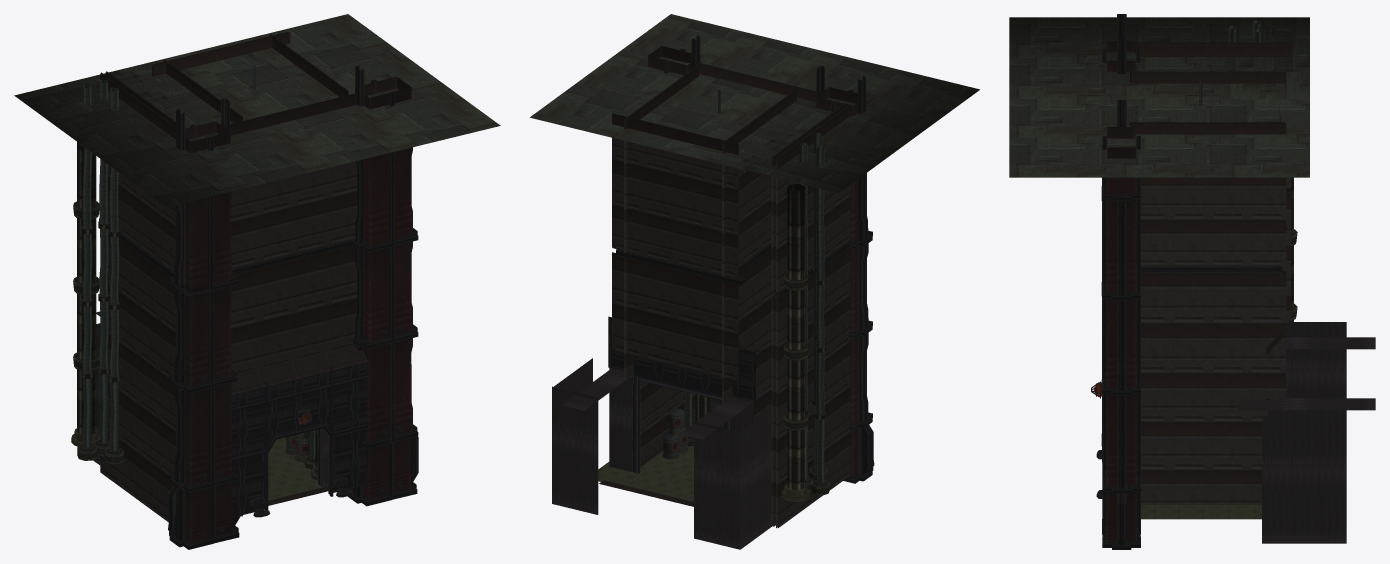
Rendered from ex-resca.glb.
3 views of the same model, side by side, from view 1: azimuth 30°, elevation 25°; view 2: azimuth 150°, elevation 25°; view 3: azimuth 270°, elevation 25° (orthographic). The views are drawn at different scales.
Visible parts, largest first — view 1: Mesh_0.051, Mesh_0.022, Mesh_0.015, Mesh_0.041, Mesh_0.020, Mesh_0.023, Mesh_1.012, Mesh_1.011, Mesh_1.015, Mesh_0.048, Mesh_0.034, Mesh_0.044 (+3 smaller); view 2: Mesh_0.051, Mesh_0.047, Mesh_0.077, Mesh_0.041, Mesh_0.042, Mesh_1.011, Mesh_0.020, Mesh_1.012, Mesh_0.022, Mesh_0.046, Mesh_0.044, Mesh_0.026 (+6 smaller); view 3: Mesh_0.042, Mesh_0.051, Mesh_0.077, Mesh_0.020, Mesh_0.022, Mesh_0.043, Mesh_0.044, Mesh_0.041, Mesh_1.011.
Part boxes in pixels (<box>): Mesh_0.051: <box>14,14,500,207</box>; Mesh_0.022: <box>175,76,411,542</box>; Mesh_0.015: <box>230,93,357,372</box>; Mesh_0.041: <box>100,72,175,521</box>; Mesh_0.020: <box>99,65,418,549</box>; Mesh_0.023: <box>232,358,366,517</box>; Mesh_1.012: <box>77,79,109,460</box>; Mesh_1.011: <box>71,142,99,446</box>; Mesh_1.015: <box>104,87,124,464</box>; Mesh_0.048: <box>232,358,368,509</box>; Mesh_0.034: <box>232,344,366,394</box>; Mesh_0.044: <box>268,437,321,500</box>; Mesh_0.051: <box>530,14,979,192</box>; Mesh_0.047: <box>612,113,743,380</box>; Mesh_0.077: <box>552,358,771,549</box>; Mesh_0.041: <box>776,105,850,528</box>; Mesh_0.042: <box>624,66,796,471</box>; Mesh_1.011: <box>781,184,810,501</box>; Mesh_0.020: <box>663,35,874,483</box>; Mesh_1.012: <box>799,142,829,495</box>; Mesh_0.022: <box>648,46,866,476</box>; Mesh_0.046: <box>608,311,755,403</box>; Mesh_0.044: <box>598,445,693,501</box>; Mesh_0.026: <box>609,365,753,471</box>; Mesh_0.042: <box>1130,71,1286,504</box>; Mesh_0.051: <box>1009,17,1309,177</box>; Mesh_0.077: <box>1238,322,1375,543</box>; Mesh_0.020: <box>1098,14,1291,549</box>; Mesh_0.022: <box>1106,41,1136,541</box>; Mesh_0.043: <box>1136,45,1291,321</box>; Mesh_0.044: <box>1141,504,1261,519</box>; Mesh_0.041: <box>1134,42,1291,296</box>; Mesh_1.011: <box>1291,177,1297,321</box>.
Size of what is drawn, in the model's own units: 39.2 by 48.27 by 37.82.
Materials: 38 (38 with a texture image).
